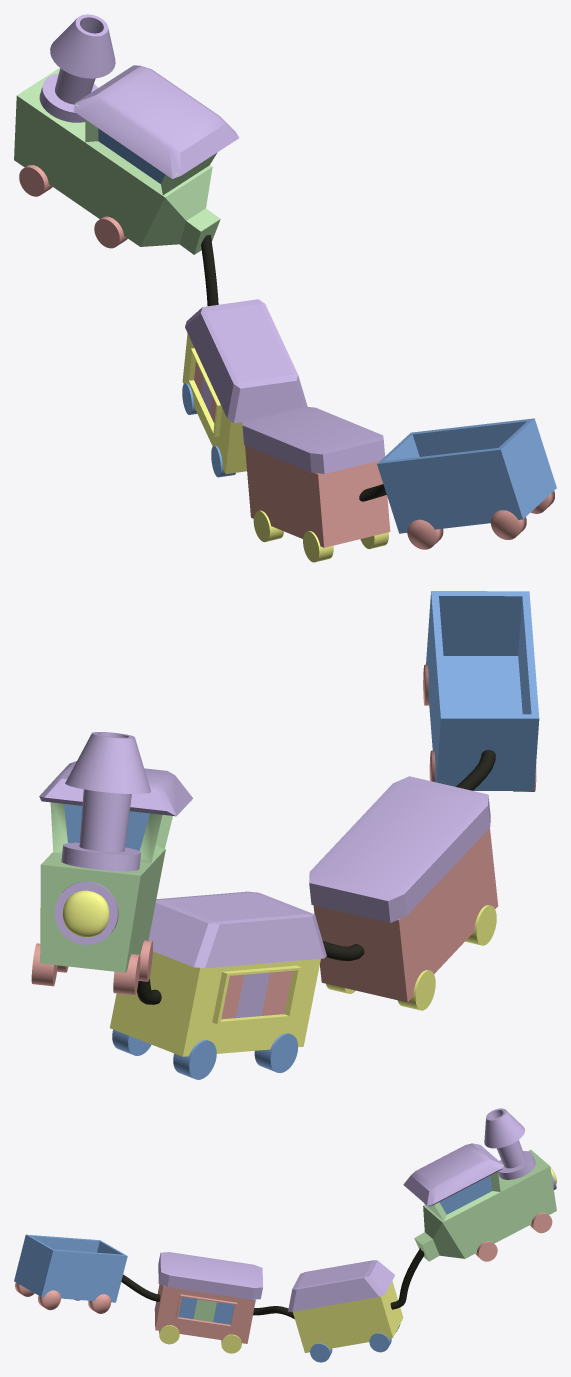
File: train flotandofbx.fbx
3 renders of one model, top to bottom at view 1: azimuth 30°, elevation 25°; view 2: azimuth 150°, elevation 25°; view 3: azimuth 270°, elevation 25°, orthographic. The views are drawn at different scales.
Parts seen in each view (by area): view 1: chuchu, n3, n4, n2, BezierCurve; view 2: n3, n2, chuchu, n4, BezierCurve.002, BezierCurve.001; view 3: chuchu, n2, n3, n4, BezierCurve, BezierCurve.002, BezierCurve.001.
Boxes of the visible parts, <box> form: chuchu: <box>14,14,239,254</box>; n3: <box>242,406,390,562</box>; n4: <box>377,418,556,549</box>; n2: <box>182,299,307,477</box>; BezierCurve: <box>201,235,218,306</box>; n3: <box>309,776,498,1010</box>; n2: <box>110,891,326,1079</box>; chuchu: <box>31,732,192,995</box>; n4: <box>423,591,539,791</box>; BezierCurve.002: <box>456,750,495,790</box>; BezierCurve.001: <box>322,941,364,960</box>; chuchu: <box>403,1108,556,1261</box>; n2: <box>288,1260,403,1362</box>; n3: <box>154,1252,262,1353</box>; n4: <box>14,1234,127,1313</box>; BezierCurve: <box>390,1248,424,1309</box>; BezierCurve.002: <box>121,1274,160,1301</box>; BezierCurve.001: <box>253,1306,294,1319</box>.
Bounding box in the file's own units: 1150 × 2491 × 5288.
